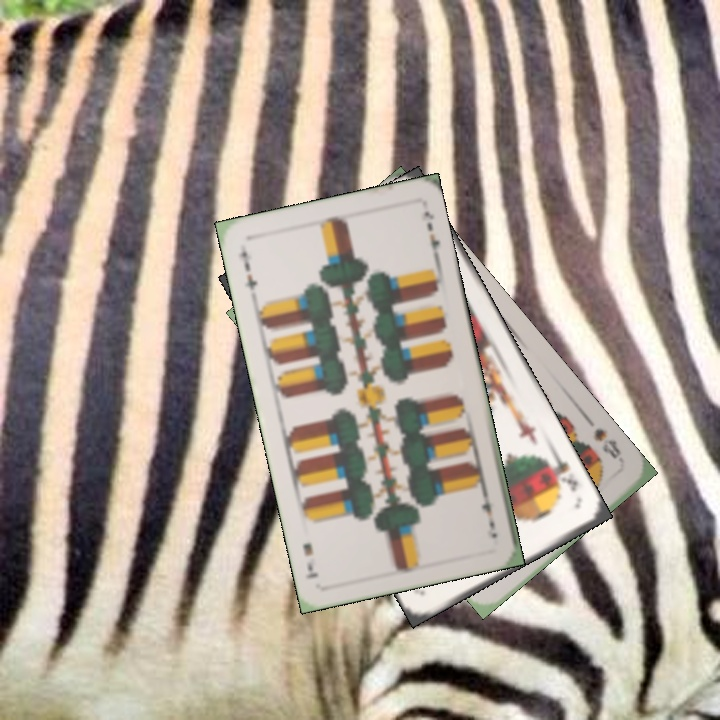E7: (233, 246, 260, 293), (477, 485, 498, 532)
S8: (590, 424, 624, 462)
SK: (541, 451, 581, 494)
